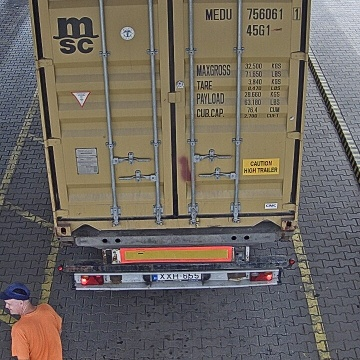serial_id: (205, 7, 300, 19)
